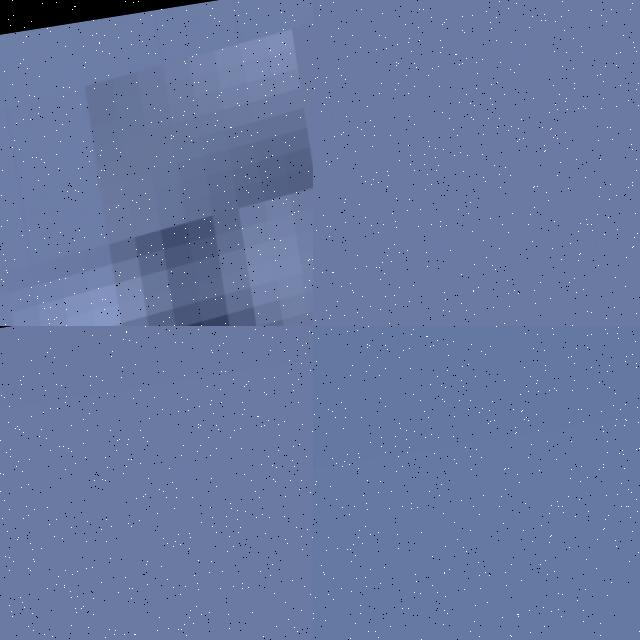drone: (0, 0, 313, 326)
